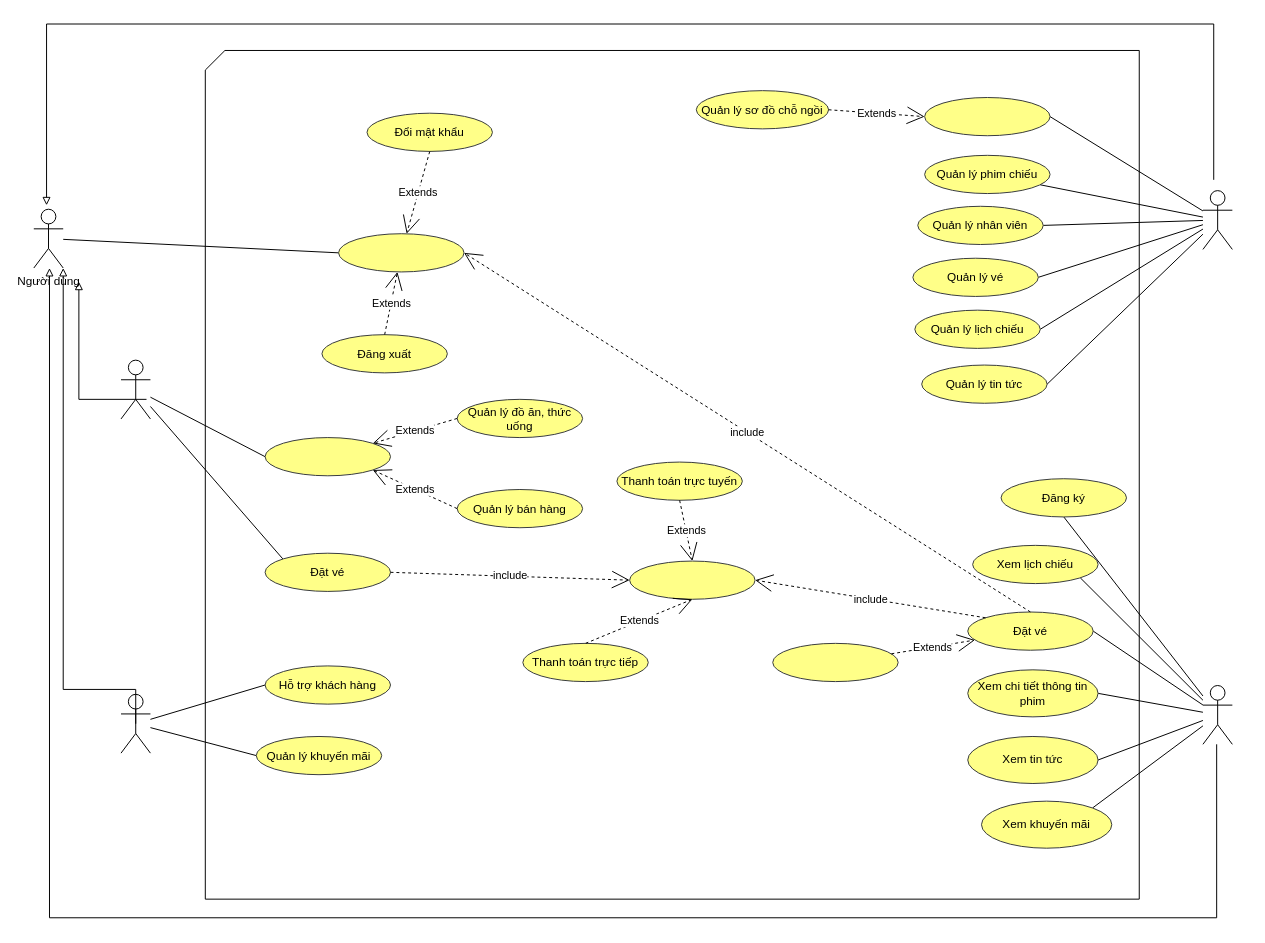
Image size: 1265x943. Some labels were removed from this diagram. The centre of each missing label's shape, as x and y in pixels:
Chăm sóc khách hàng: the point at 135,723
Khách hàng: the point at 1217,714
Nhân viên tiếp tân: the point at 135,389
Quản lý: the point at 1217,219
Quản lý cantin: the point at 327,456
Quản lý phòng chiếu: the point at 987,116
Thanh toán: the point at 692,579
Xem vé đã đặt: the point at 835,662
Đăng nhập: the point at 401,252
